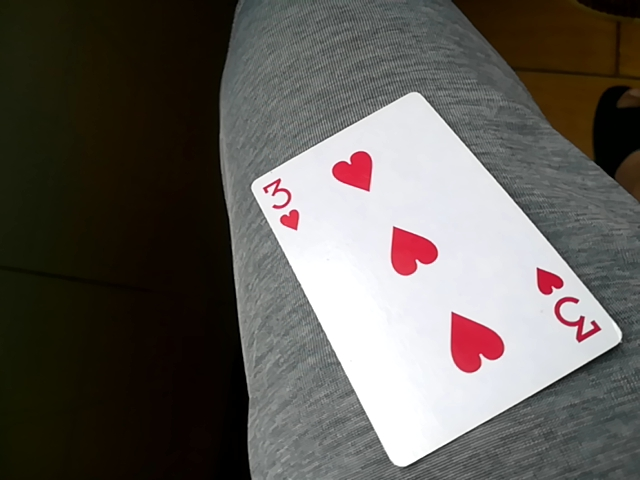hx 3: (244, 89, 613, 467)
